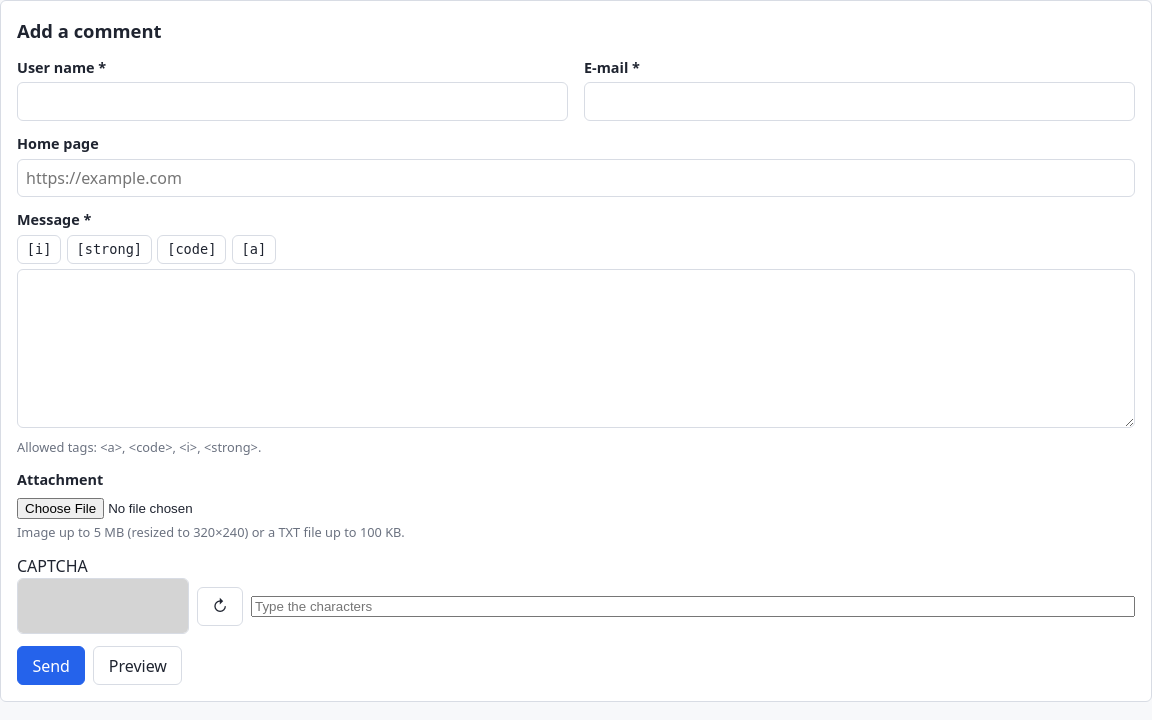
CommentForm › reports a wrong value of #email
This screenshot has width=1152, height=720.
In the field with id "user_name": (292, 102) [17, 82, 568, 121], type "Anonym"
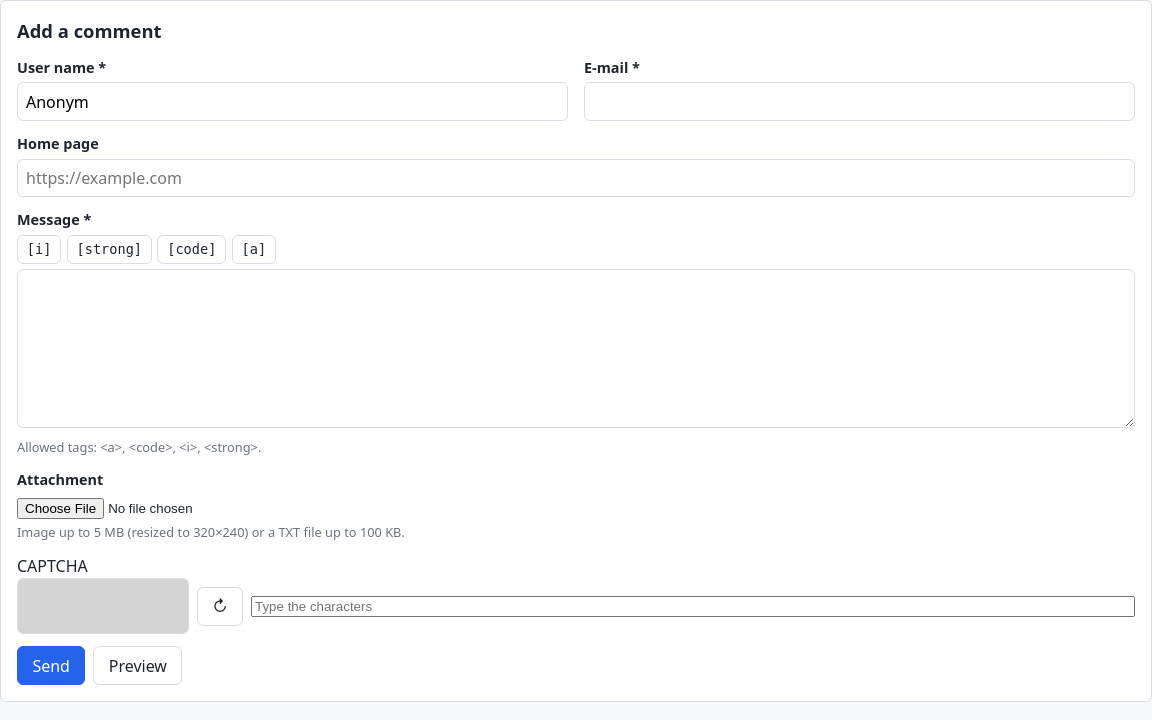
In the field with id "email": (860, 102) [584, 82, 1135, 121], type "anonym@example.com"
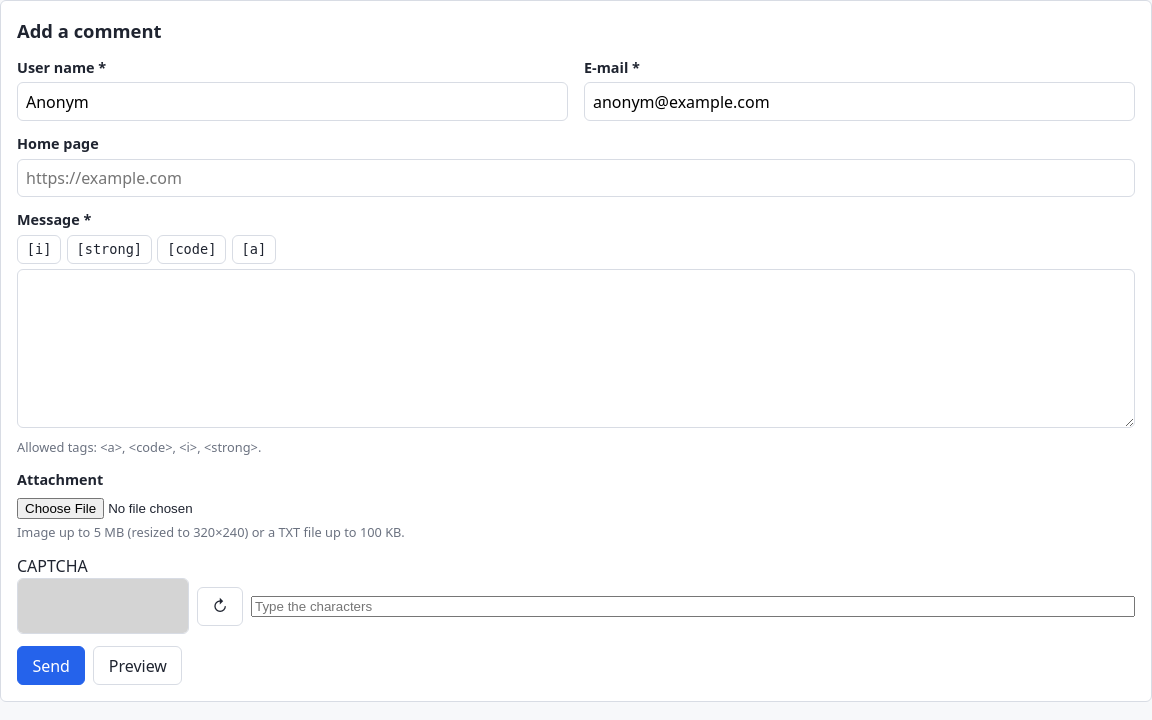
In the text box labelled "Message *": (576, 349) [17, 269, 1135, 428], type "Hello there"
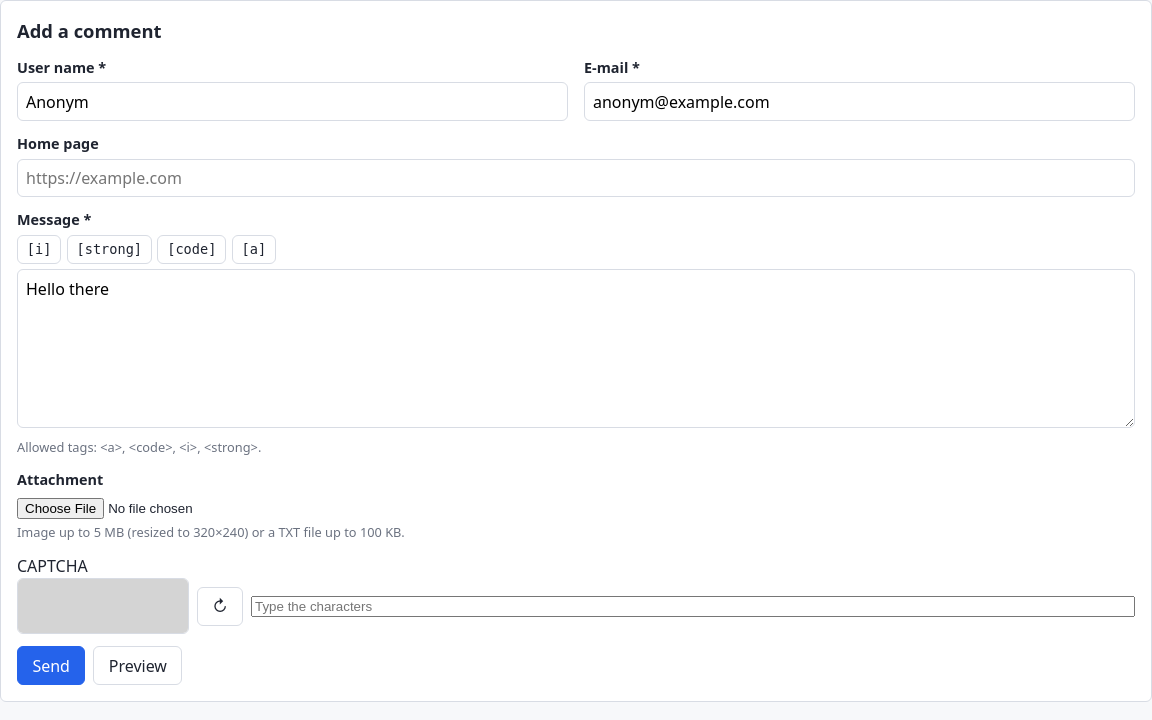
In the field with id "captcha": (693, 606) [251, 596, 1135, 617], type "ABC123"
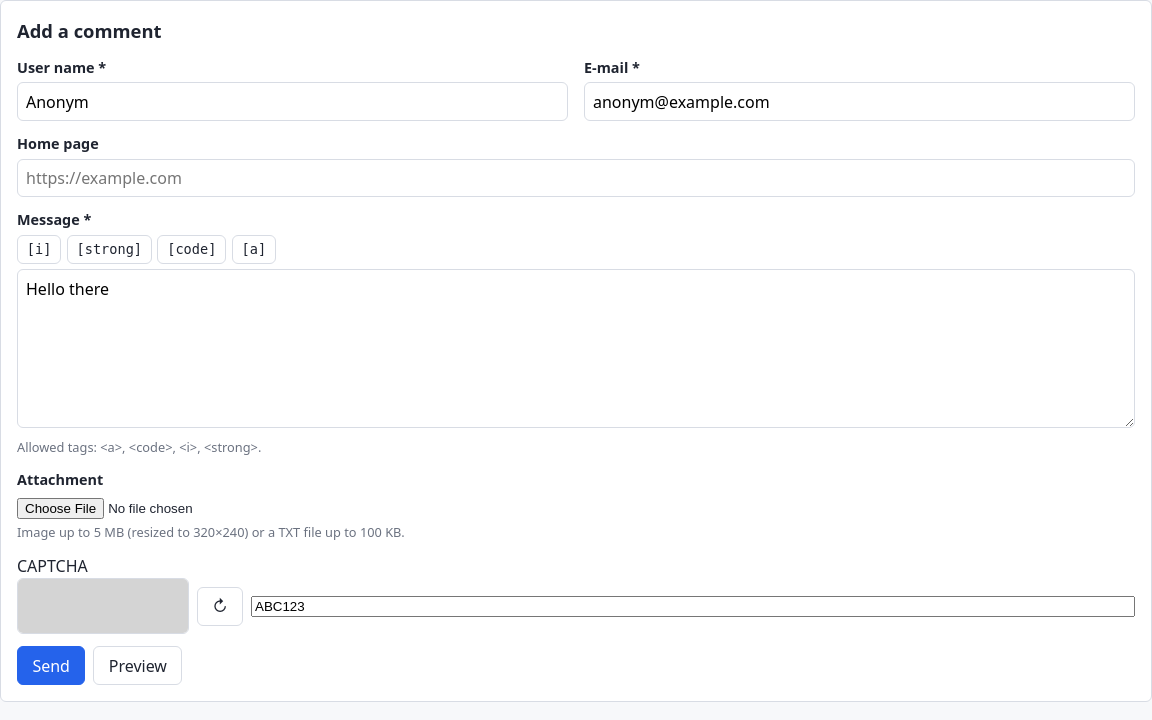
Replace the text in the field with id "email" with "not-an-email": (860, 102) [584, 82, 1135, 121]
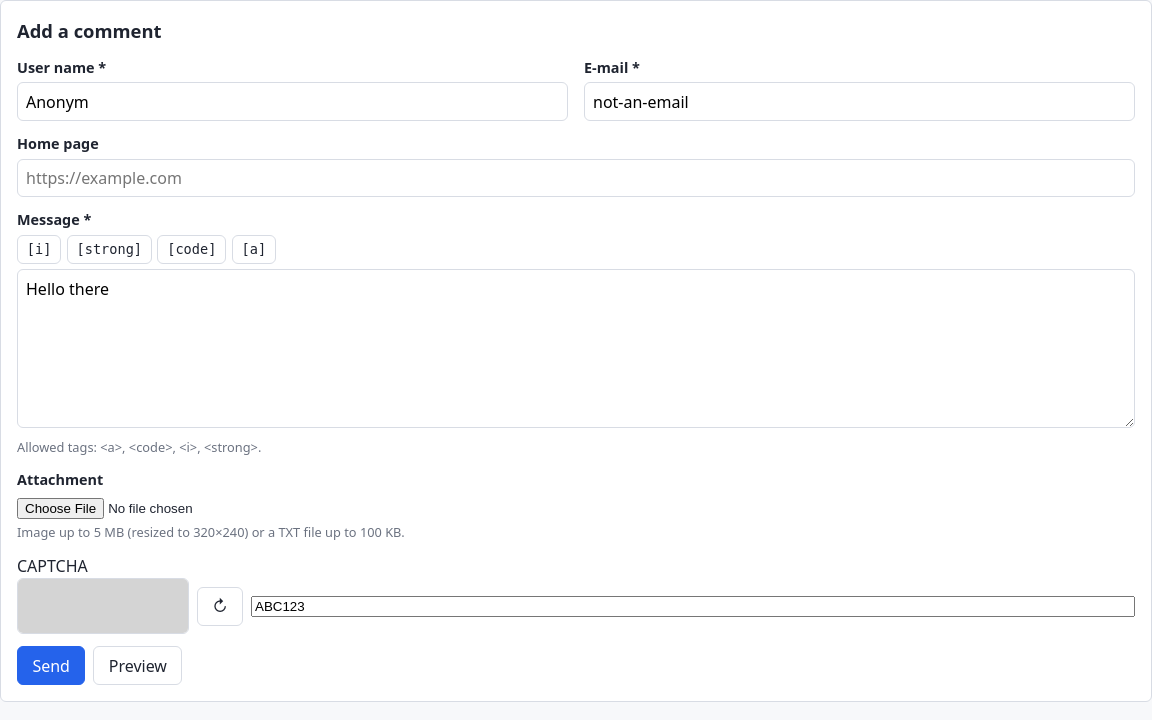
Submit the form
(page scrolled)
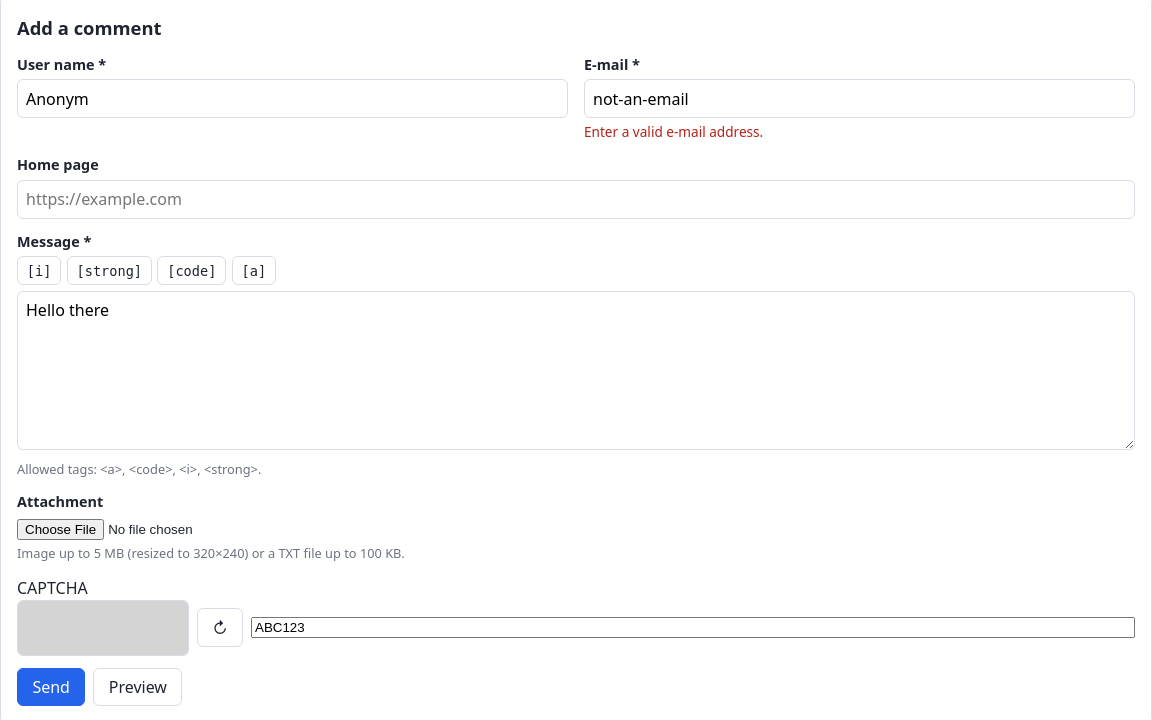
Expected: the form shows "Enter a valid e-mail address.", [584, 122, 763, 141]
